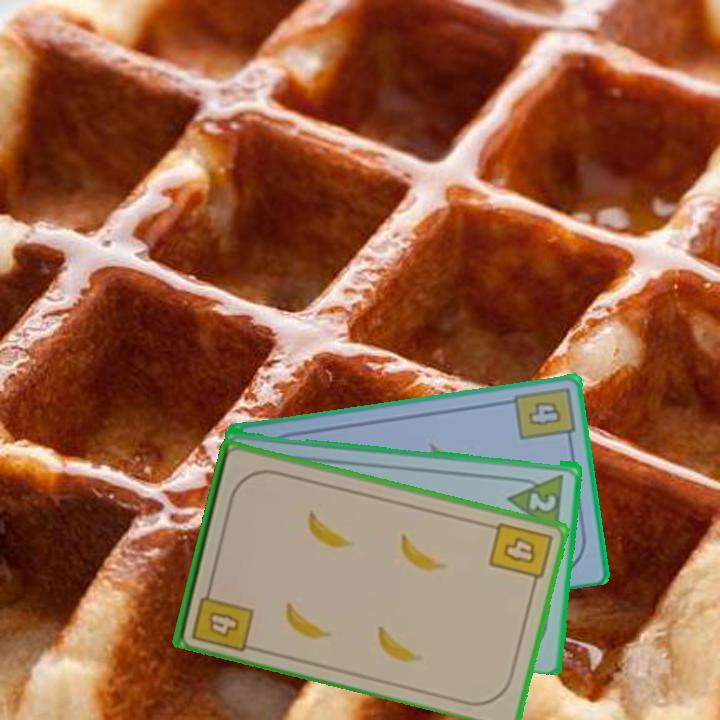2p: (505, 470, 567, 533)
4b: (188, 579, 257, 654), (485, 518, 555, 591), (510, 383, 577, 447)
